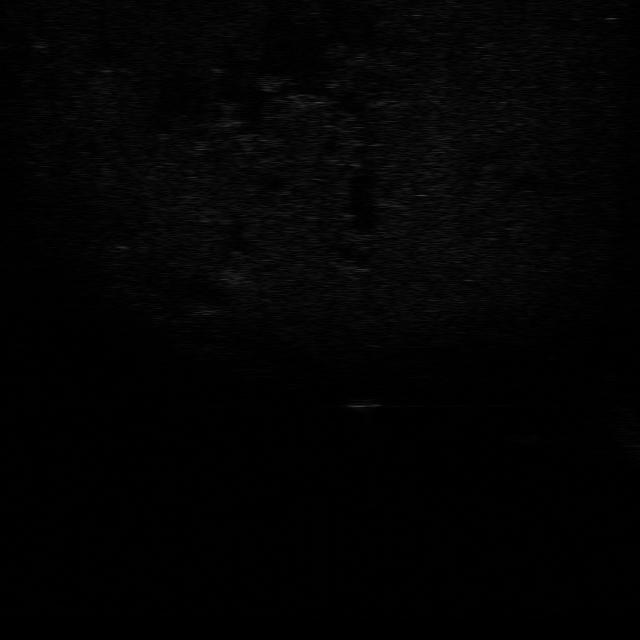square cage: (342, 394, 387, 410)
